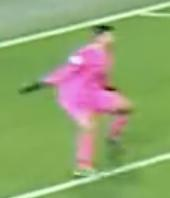goalkeeper: (9, 11, 143, 195)
